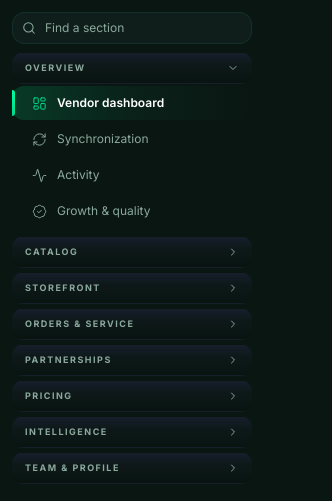
Scenario: the vendor side menu › says so when nothing matches
In the search field named "Filter vendor sections": (132, 28) [12,12,252,44], type "zzzz"
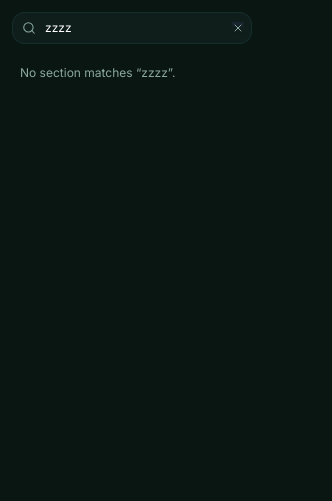
expect the text "No section matches “zzzz”." is shown: met, box [20,65,175,80]
